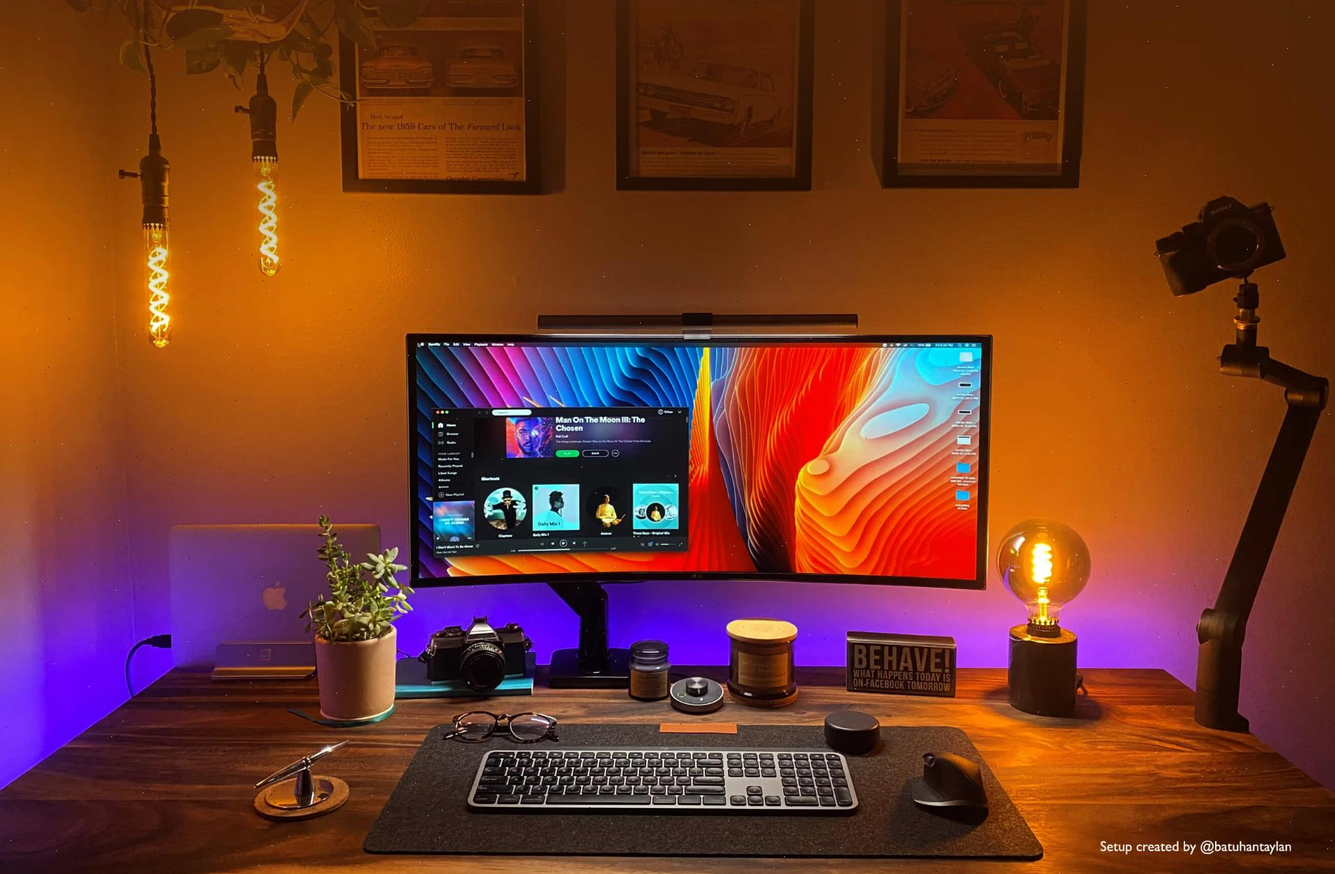keyboard: (459, 734, 864, 829)
monitor: (395, 315, 998, 600)
mouse: (896, 739, 1013, 830)
